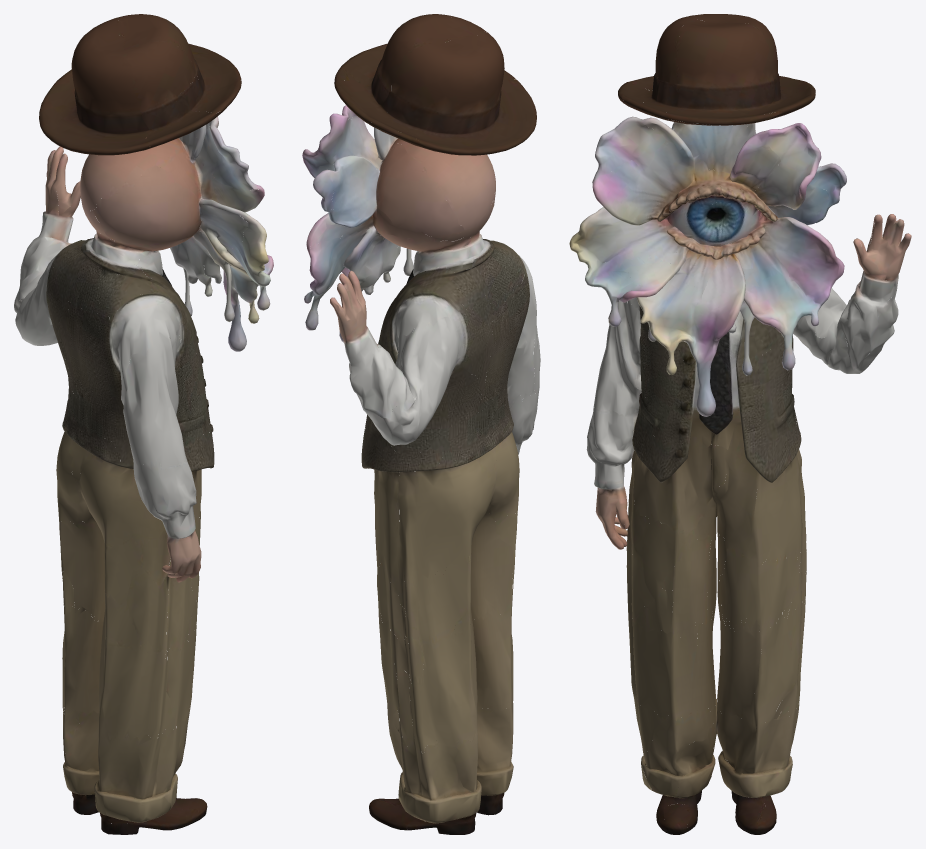
The model's file is annieh.glb.
3 views of the same model, side by side, from view 1: azimuth 30°, elevation 25°; view 2: azimuth 150°, elevation 25°; view 3: azimuth 270°, elevation 25° (orthographic).
Parts seen in each view (by area): view 1: tripo_node_1126258b-1cb4-43a4-b5b0-aa4036e8409b; view 2: tripo_node_1126258b-1cb4-43a4-b5b0-aa4036e8409b; view 3: tripo_node_1126258b-1cb4-43a4-b5b0-aa4036e8409b.
Boxes of the visible parts, <box> form: tripo_node_1126258b-1cb4-43a4-b5b0-aa4036e8409b: <box>14,14,273,834</box>; tripo_node_1126258b-1cb4-43a4-b5b0-aa4036e8409b: <box>302,14,540,834</box>; tripo_node_1126258b-1cb4-43a4-b5b0-aa4036e8409b: <box>569,14,911,834</box>.
Bounding box in the file's own units: 0.2511 × 1 × 0.3893.
1 material, 1 textured.
